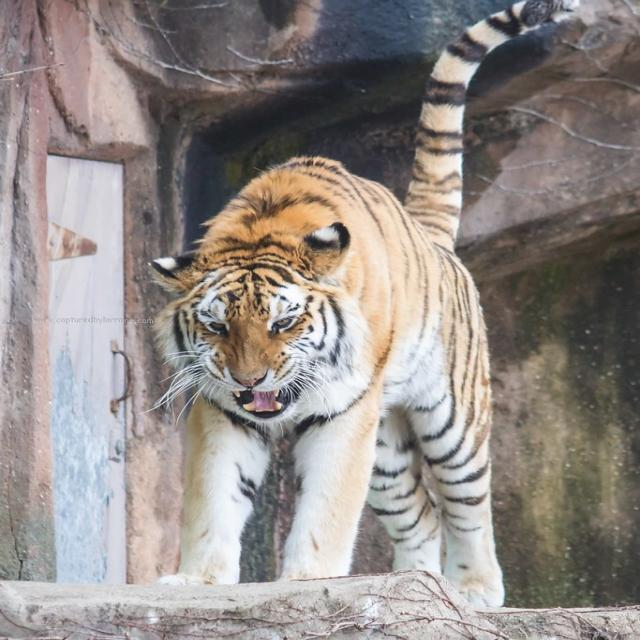Tiger: (139, 56, 520, 614)
